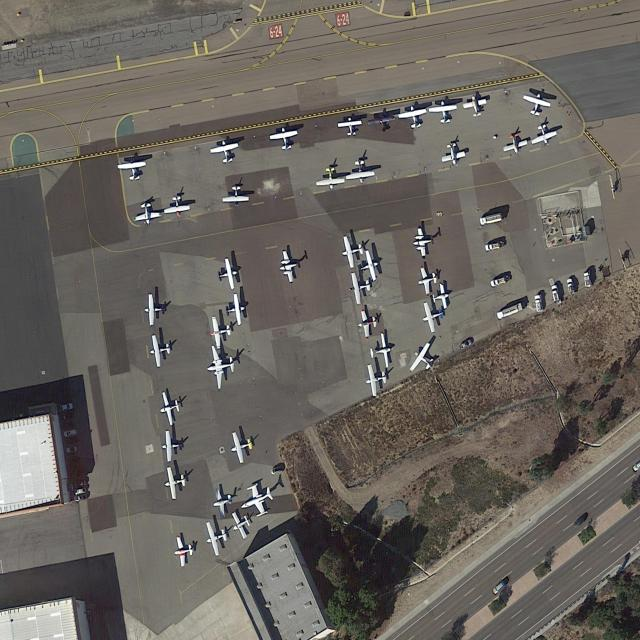large-vehicle: (496, 302, 523, 320), (479, 212, 503, 226), (490, 275, 511, 288), (485, 240, 506, 252), (551, 285, 562, 305), (534, 295, 544, 313), (566, 278, 576, 295), (583, 271, 592, 289)
plane: (236, 478, 276, 522), (205, 342, 238, 390), (406, 338, 440, 380), (202, 516, 231, 558), (419, 296, 447, 335), (338, 232, 366, 270), (228, 427, 255, 465), (209, 136, 242, 166), (347, 268, 373, 306), (368, 332, 393, 371), (162, 464, 188, 501), (520, 90, 553, 119), (277, 247, 302, 285), (268, 124, 300, 153), (363, 361, 388, 398), (357, 248, 382, 285), (157, 389, 181, 427), (397, 103, 429, 131), (216, 256, 240, 293), (228, 507, 254, 541), (528, 121, 559, 149), (117, 154, 148, 182), (344, 158, 376, 185), (208, 314, 232, 350), (148, 332, 172, 368), (355, 305, 379, 341), (211, 485, 235, 520), (412, 224, 434, 261), (500, 130, 530, 157), (315, 166, 346, 192), (224, 292, 247, 327), (439, 141, 468, 168), (172, 534, 195, 568), (416, 263, 439, 297), (132, 201, 162, 227), (428, 99, 459, 124), (367, 110, 397, 134), (461, 93, 489, 118), (162, 194, 191, 218), (145, 294, 166, 326), (162, 430, 182, 463), (431, 283, 451, 312), (222, 186, 249, 207), (337, 116, 363, 137)
small-vehicle: (491, 580, 507, 595), (571, 516, 586, 529), (458, 338, 473, 350), (58, 403, 74, 412), (270, 466, 284, 476), (63, 429, 78, 438), (73, 479, 87, 488), (74, 493, 88, 502), (66, 445, 78, 454), (74, 487, 87, 495)
